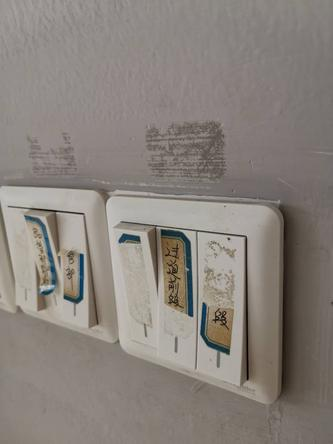switch: (193, 228, 256, 387), (111, 217, 163, 356), (156, 221, 202, 366), (53, 207, 101, 332), (24, 203, 68, 315), (3, 203, 45, 312)
